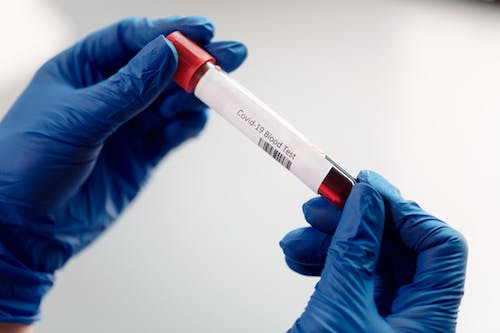blood: (188, 60, 357, 207)
